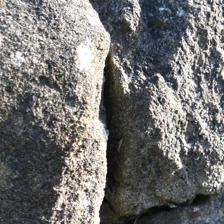Crack: (5, 52, 117, 163), (0, 66, 120, 108)
